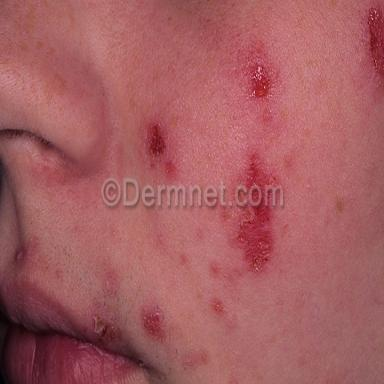acne: (235, 202, 274, 271), (367, 7, 384, 78), (245, 154, 276, 188), (142, 303, 165, 340), (147, 122, 166, 157), (251, 66, 269, 97), (212, 299, 223, 312), (165, 160, 175, 174)
